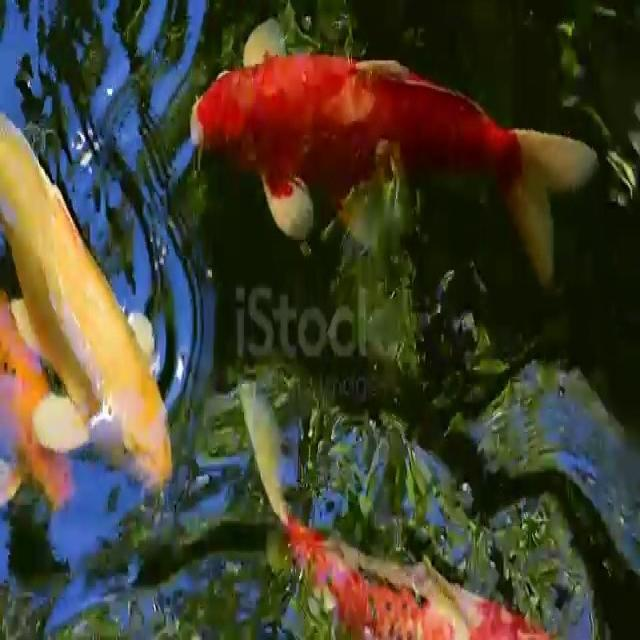fish: (180, 23, 588, 272), (233, 377, 562, 640), (3, 135, 181, 487), (0, 325, 98, 522)
